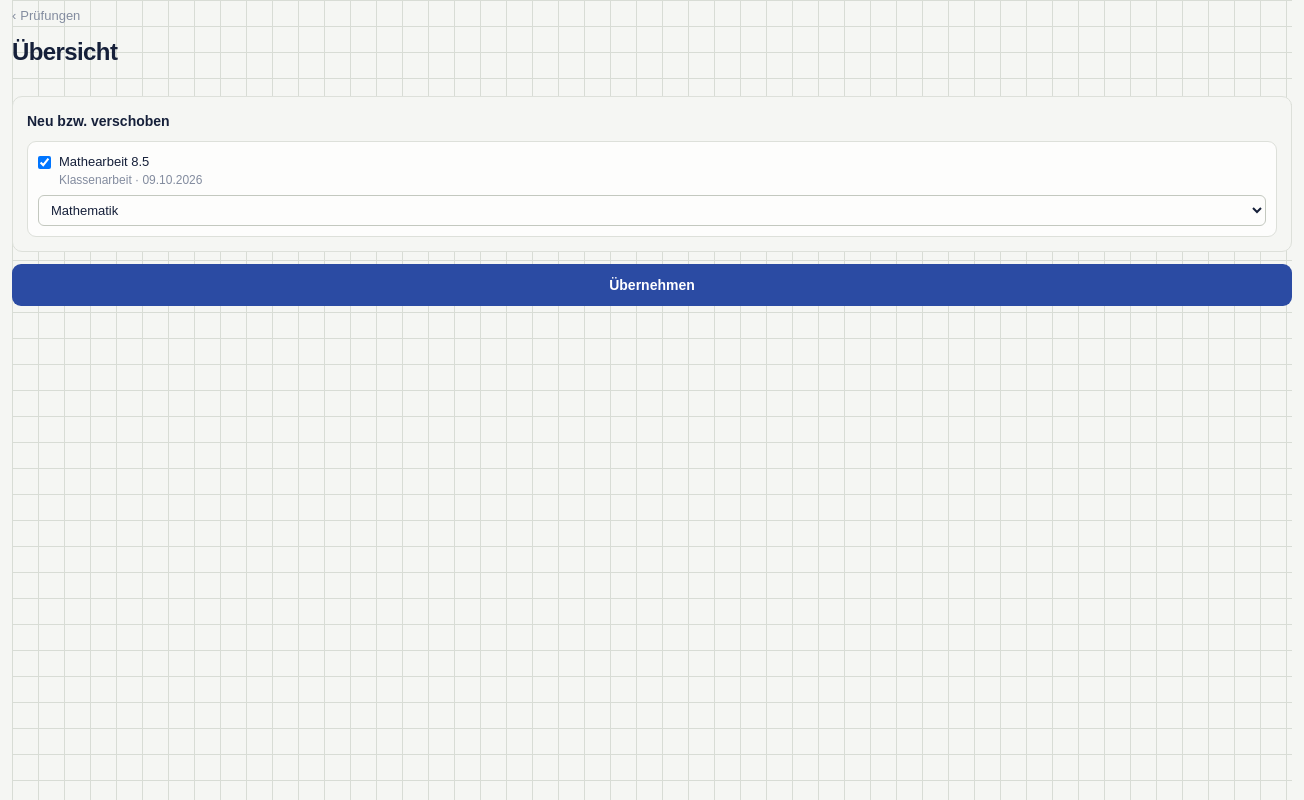
Test: ReviewListe › zeigt eine erkannte Zeile mit aufgelöstem Fach und übernimmt sie
This screenshot has width=1304, height=800.
Expected: the text "Mathearbeit 8.5" is shown, [59,154,149,168]
Expected: the dropdown shows "Mathematik", [38,195,1266,226]
Click the button "Übernehmen".
click(652, 285)  # box [12,264,1292,306]
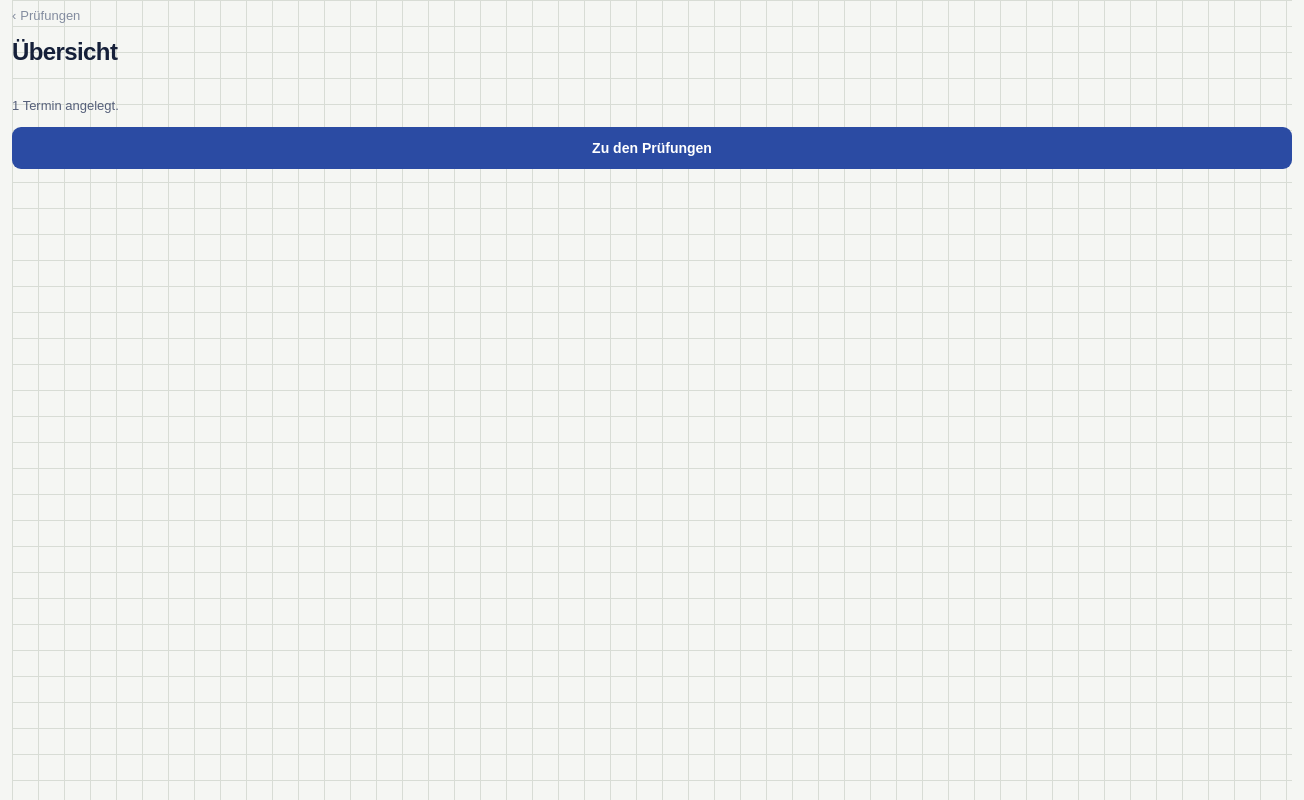
Expected: the text "1 Termin angelegt." is shown, [12,98,119,112]
